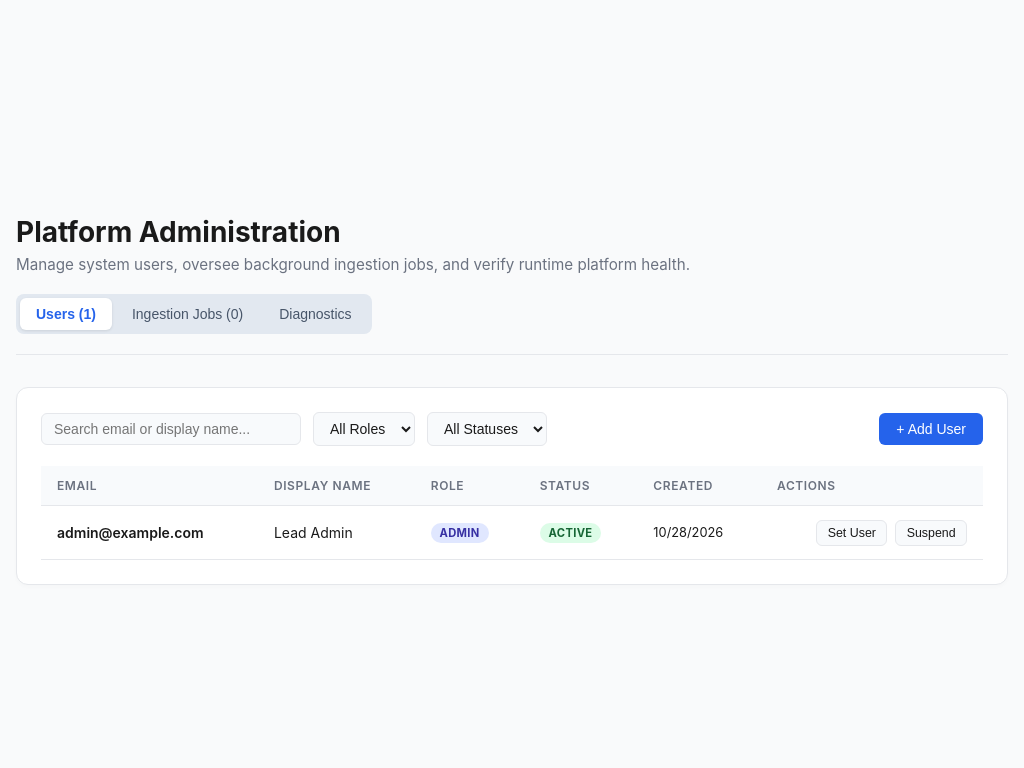
Test: AdminPanel (Phase 8 - Chunk 8.4) › opens create user modal and registers a new user
This screenshot has width=1024, height=768.
Click the button with test id "add-user-btn".
click(931, 429)  # box [879,413,983,446]
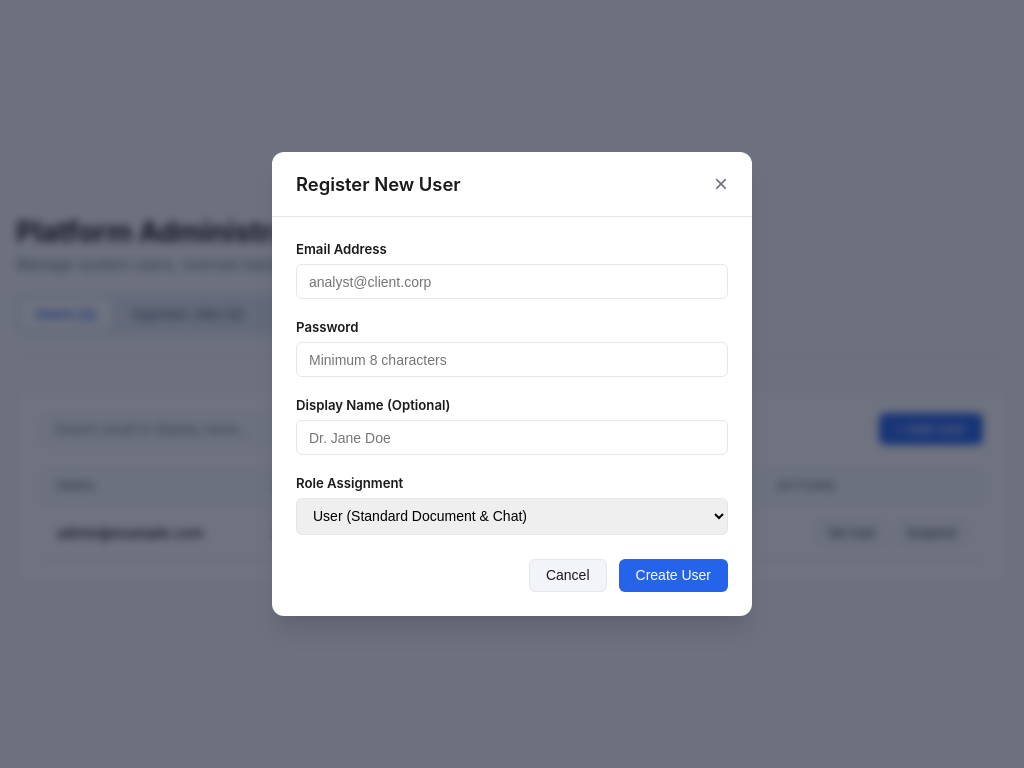
Expected: the dialog with test id "create-user-modal" is shown
Type "analyst@example.com" into the field with test id "new-user-email".
click(512, 282); type("analyst@example.com")  # box [296,264,728,299]
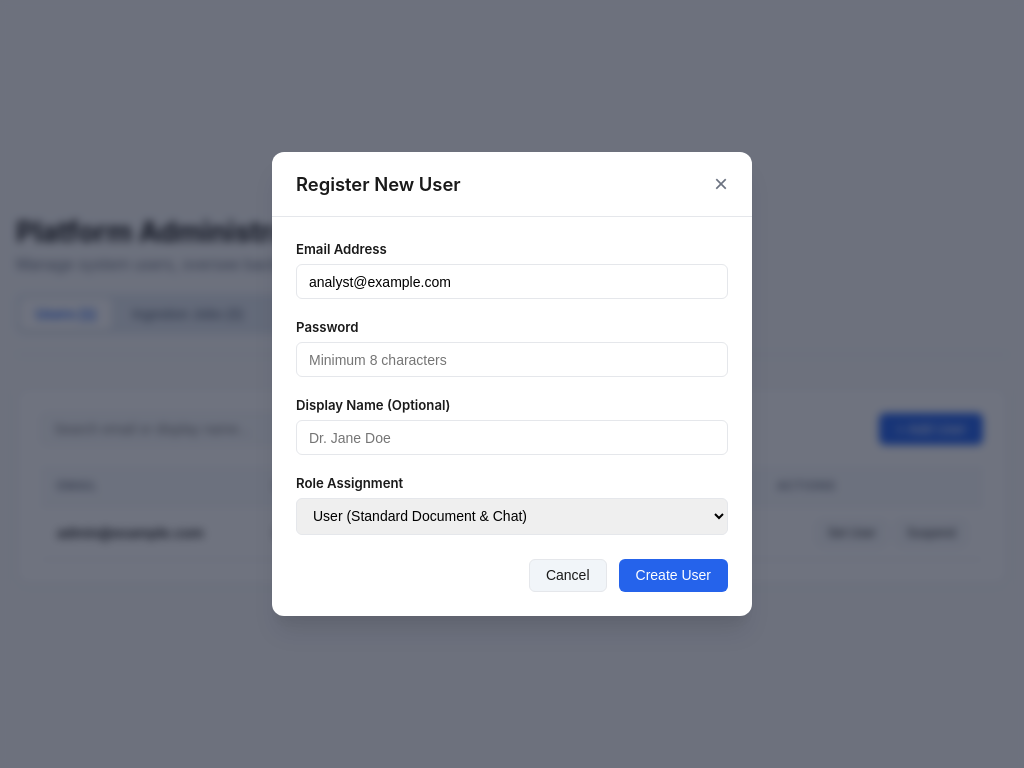
Type "SecretPassword123!" into the password field with test id "new-user-password".
click(512, 360); type("SecretPassword123!")  # box [296,342,728,377]
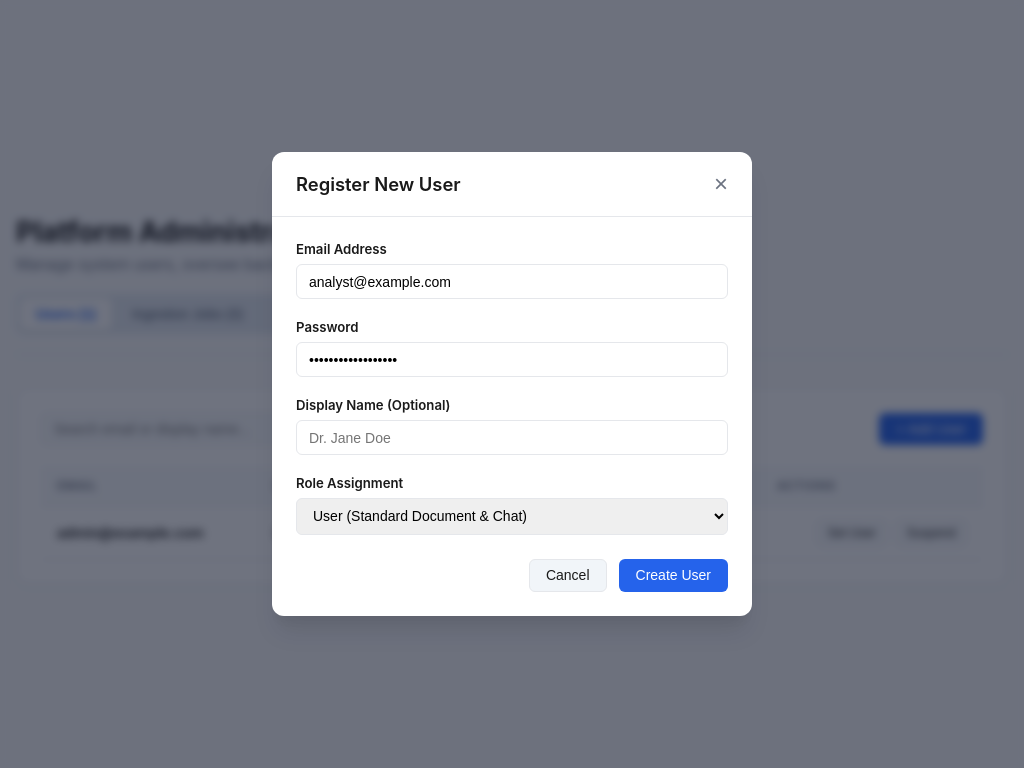
Type "New Analyst" into the field with test id "new-user-display-name".
click(512, 438); type("New Analyst")  # box [296,420,728,455]
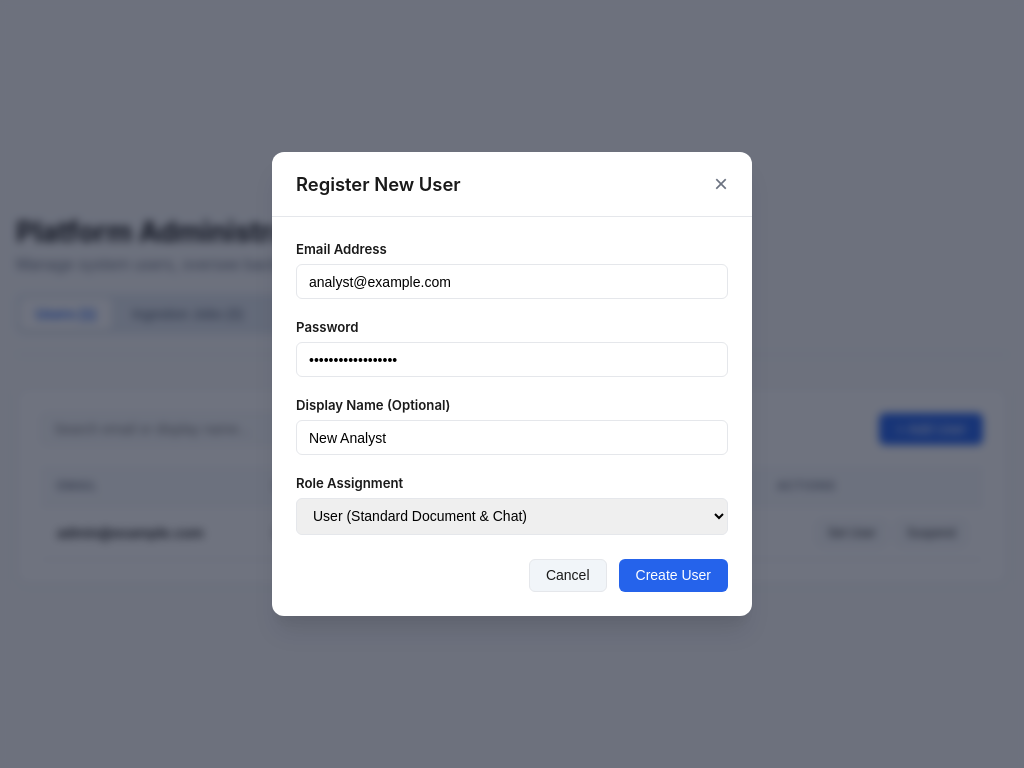
Click the button with test id "submit-create-user".
click(673, 576)  # box [618,559,728,592]
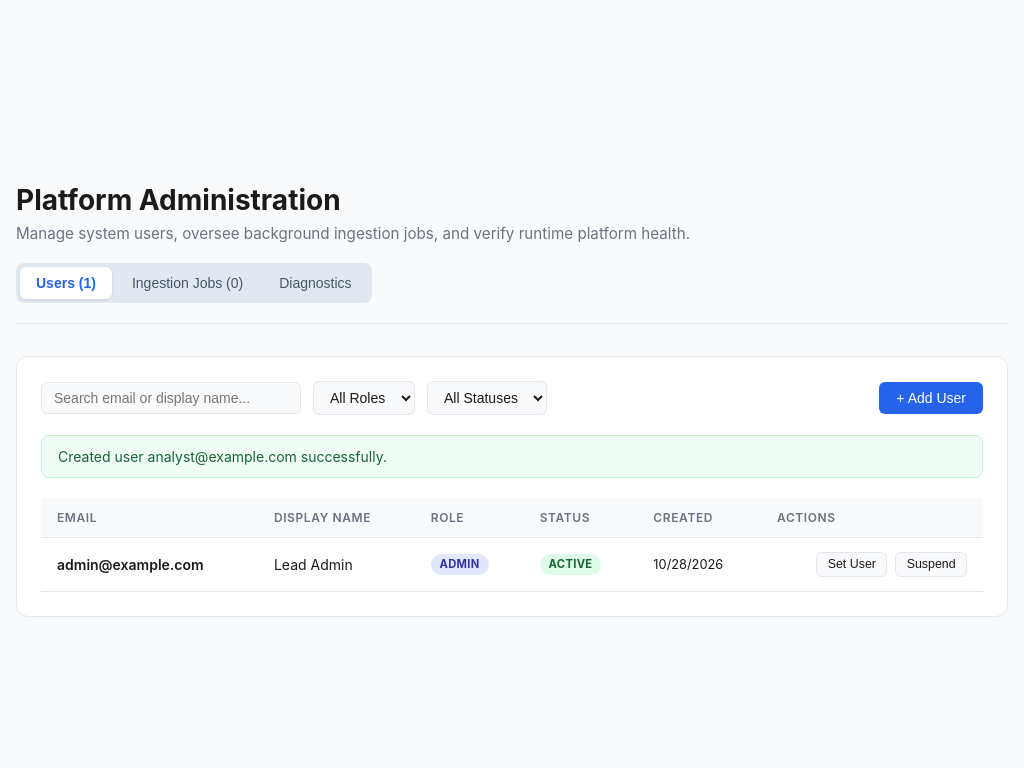
Expected: the dialog with test id "create-user-modal" is gone
